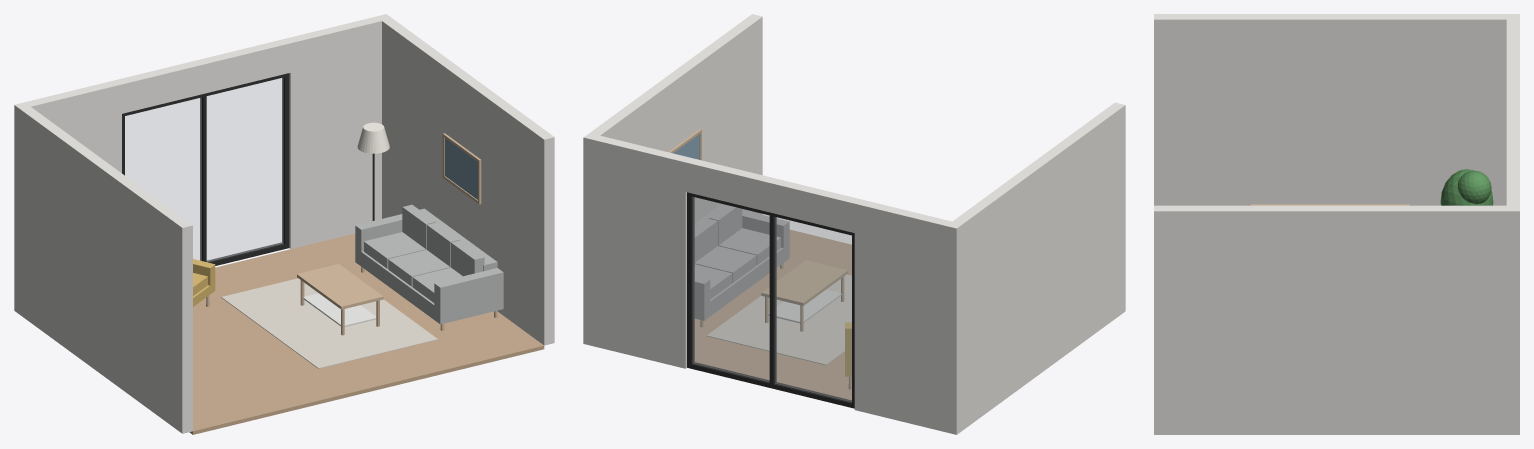
File: living-room.glb
The picture shows the model from 3 angles, left to right: view 1: azimuth 30°, elevation 25°; view 2: azimuth 150°, elevation 25°; view 3: azimuth 270°, elevation 25°; orthographic projection. The views are drawn at different scales.
Parts seen in each view (by area): view 1: Wall_Left, Wall_Back, Wall_Right, Floor, FloorWindow, Sofa, Rug, CoffeeTable, WallPainting, FloorLamp, Armchair; view 2: Wall_Back, Wall_Left, FloorWindow, Wall_Right, Floor, Sofa, Rug, CoffeeTable, WallPainting; view 3: Wall_Right, Wall_Left, Wall_Back, Plant.
Boxes of the visible parts, left/top/right/bottom form: Wall_Left: left=20, top=106, right=192, bottom=433; Wall_Back: left=14, top=14, right=392, bottom=314; Wall_Right: left=382, top=18, right=554, bottom=345; Floor: left=189, top=233, right=544, bottom=434; FloorWindow: left=122, top=73, right=289, bottom=265; Sofa: left=355, top=204, right=503, bottom=330; Rug: left=221, top=278, right=437, bottom=368; CoffeeTable: left=297, top=264, right=383, bottom=335; WallPainting: left=442, top=133, right=481, bottom=204; FloorLamp: left=357, top=122, right=389, bottom=220; Armchair: left=193, top=259, right=215, bottom=306; Wall_Back: left=583, top=133, right=962, bottom=434; Wall_Left: left=952, top=102, right=1125, bottom=429; FloorWindow: left=687, top=192, right=854, bottom=408; Wall_Right: left=590, top=14, right=762, bottom=222; Floor: left=694, top=229, right=851, bottom=400; Sofa: left=694, top=204, right=789, bottom=327; Rug: left=707, top=274, right=851, bottom=365; CoffeeTable: left=761, top=260, right=848, bottom=331; WallPainting: left=668, top=129, right=701, bottom=160; Wall_Right: left=1154, top=205, right=1506, bottom=434; Wall_Left: left=1154, top=14, right=1506, bottom=205; Wall_Back: left=1506, top=14, right=1519, bottom=434; Plant: left=1440, top=169, right=1493, bottom=205.
Size of the model in its own units: 5.3 by 2.85 by 4.15.
